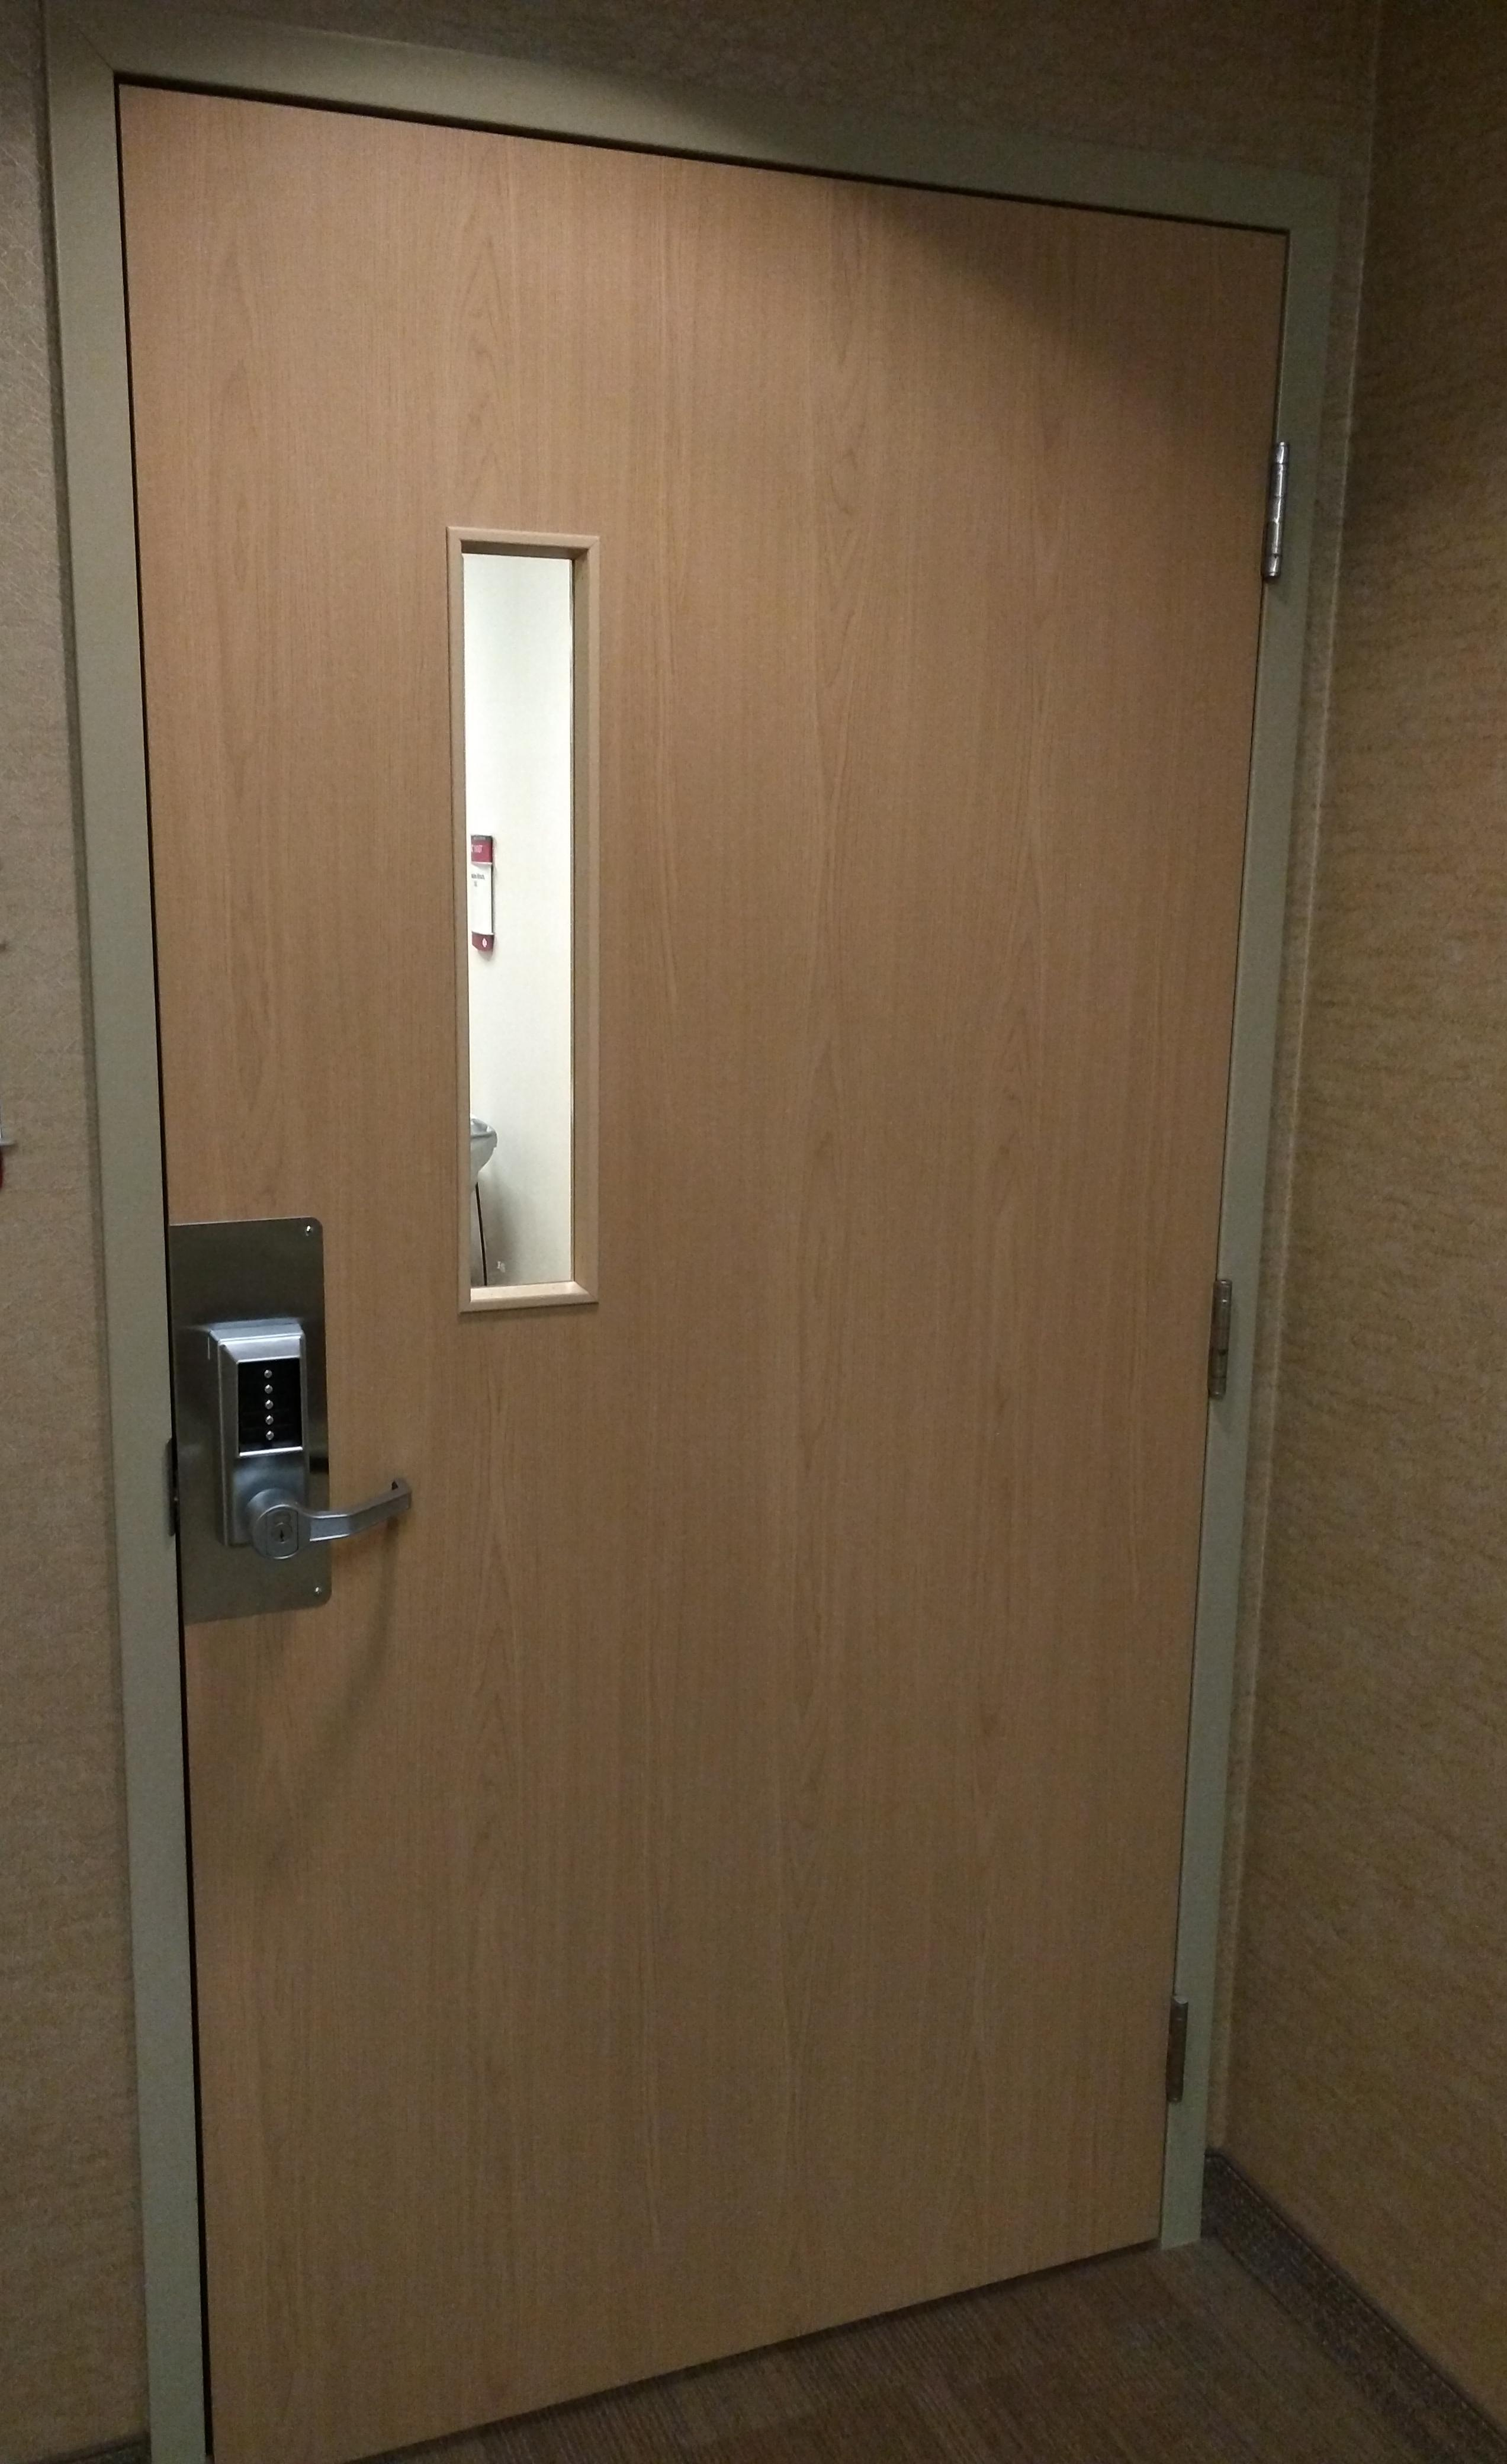door: (60, 26, 1333, 2420)
